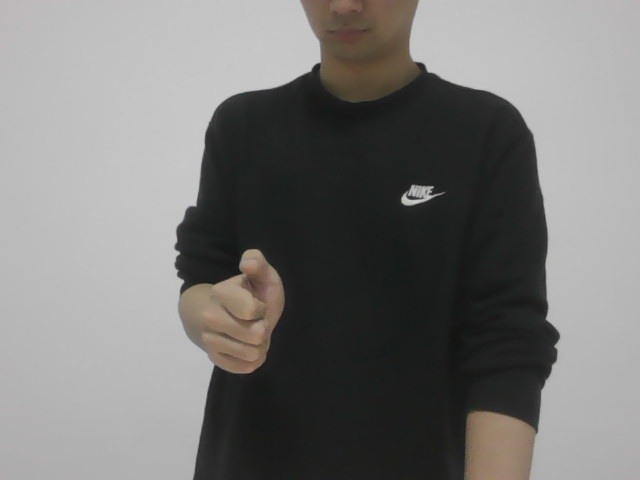thank you: (200, 250, 296, 375)
